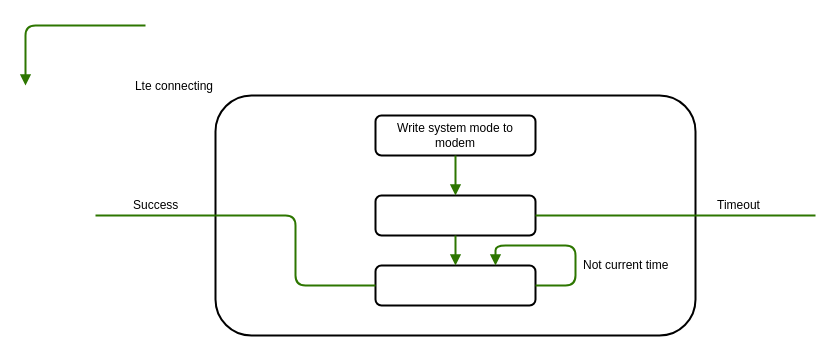
This 834x353 diagram has some shape labels left out. Here are the shapes that lost their labels. From the top down, the centre of each, then its label:
At (x=455, y=215): "Wait for connection".
At (x=455, y=285): "Request network time from modem".
